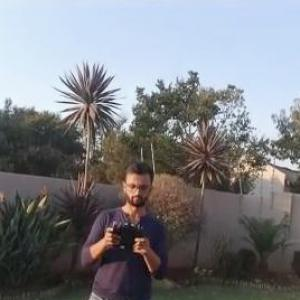follow: (74, 152, 173, 299)
